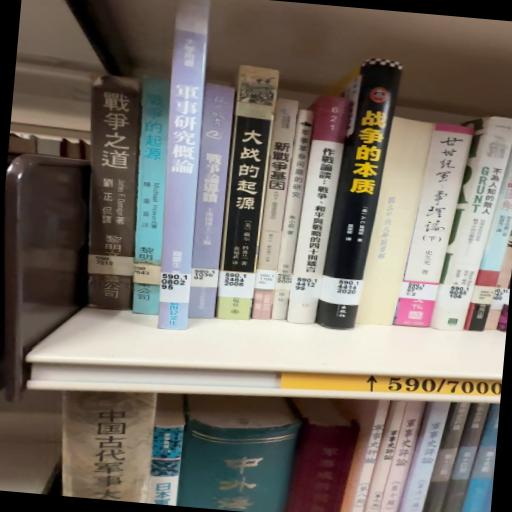backward: (357, 117, 434, 326)
book: (321, 55, 400, 323), (75, 74, 153, 316), (396, 119, 478, 333), (214, 60, 279, 322), (354, 118, 429, 330), (288, 96, 354, 330), (186, 84, 240, 328)
